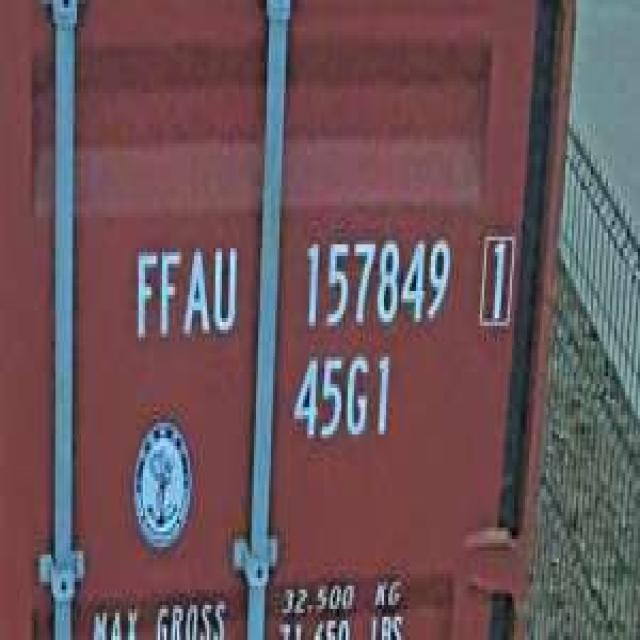dv: (474, 221, 516, 338)
owner: (126, 233, 241, 353)
serial: (296, 225, 454, 337)
size: (286, 345, 395, 454)
